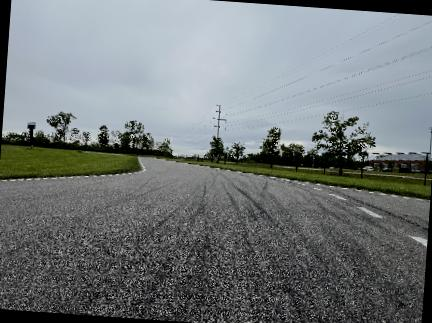Grass: (171, 160, 430, 199), (0, 147, 140, 179)
Lane: (0, 158, 429, 322)
